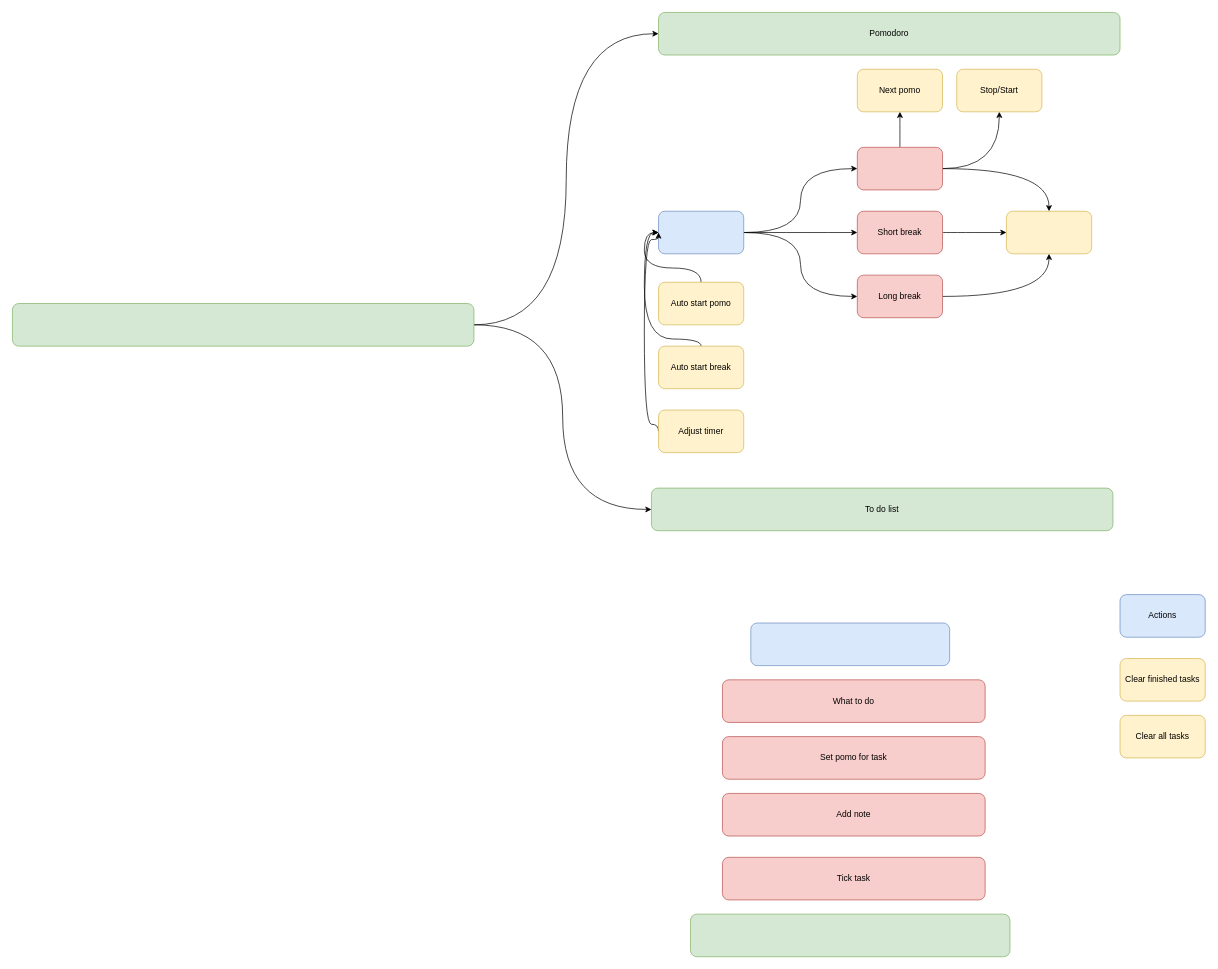
The diagram is 1218 pixels wide and 969 high, and some of its shapes have lost their labels. The shapes that lost their labels are listed below. From the top down, each one's box as (x1, y1, x2, y2) in pixels, then its label:
(857, 147, 943, 190): Pomo
(658, 211, 744, 254): Timer Setting
(1006, 211, 1092, 254): Alert
(12, 303, 474, 346): HOmepage
(750, 622, 950, 666): Add task
(690, 913, 1010, 957): Estimate time
